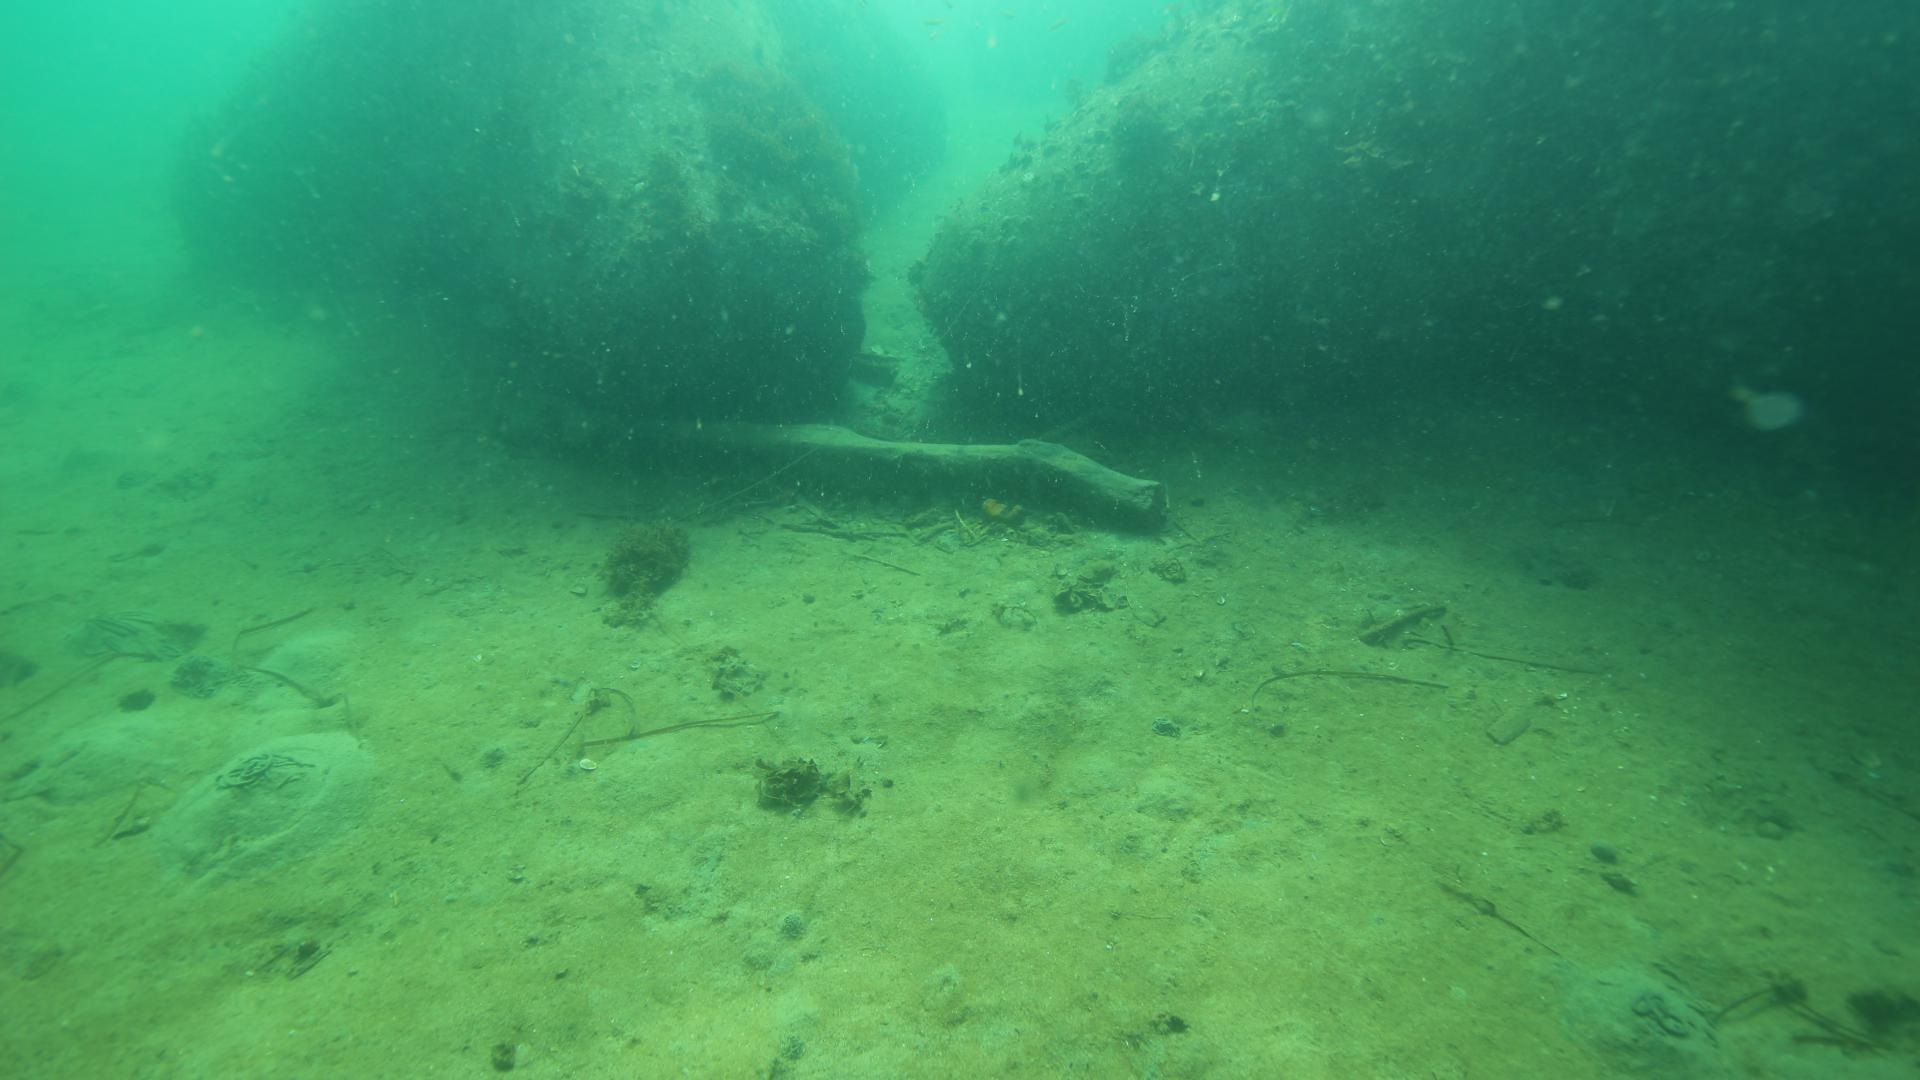wood: (506, 410, 1164, 531)
